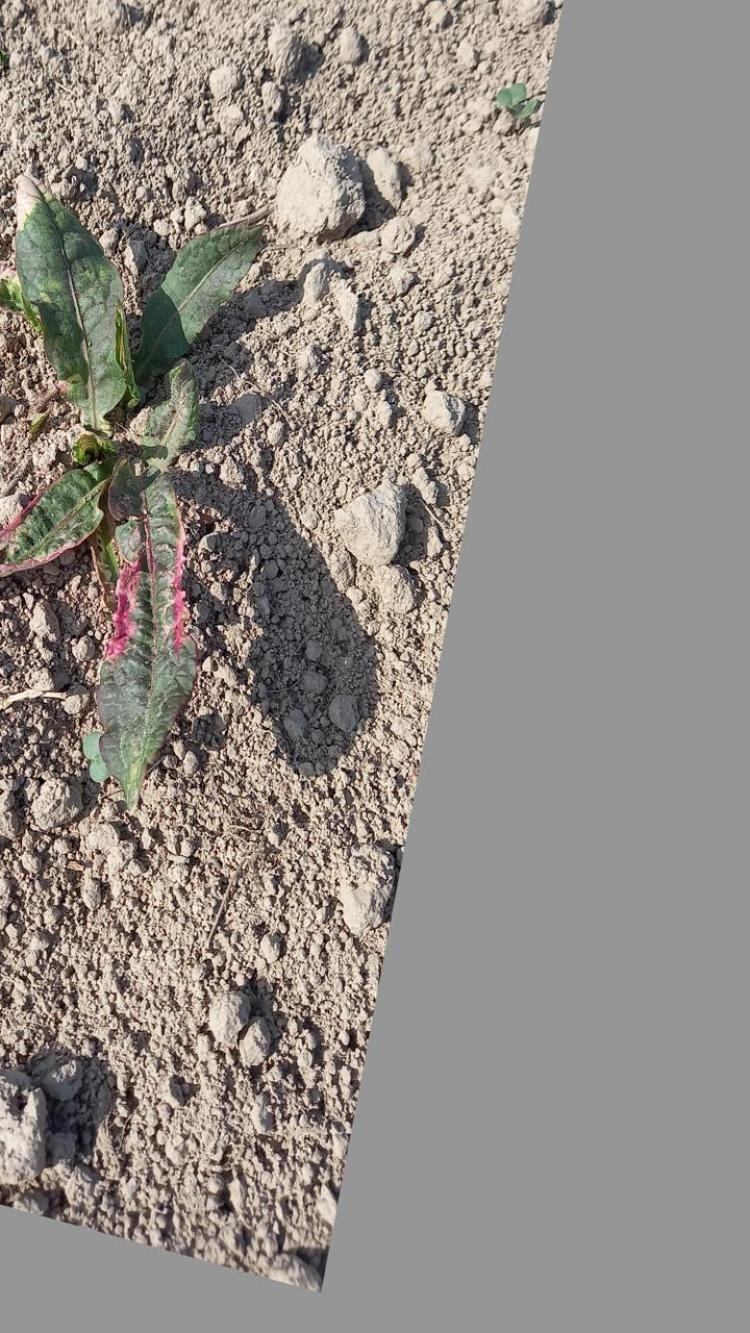zhavel: (0, 167, 273, 806)
